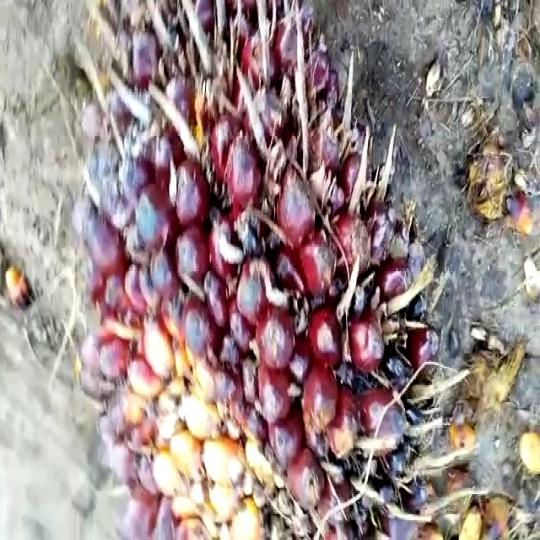kurang masak: (65, 7, 451, 540)
